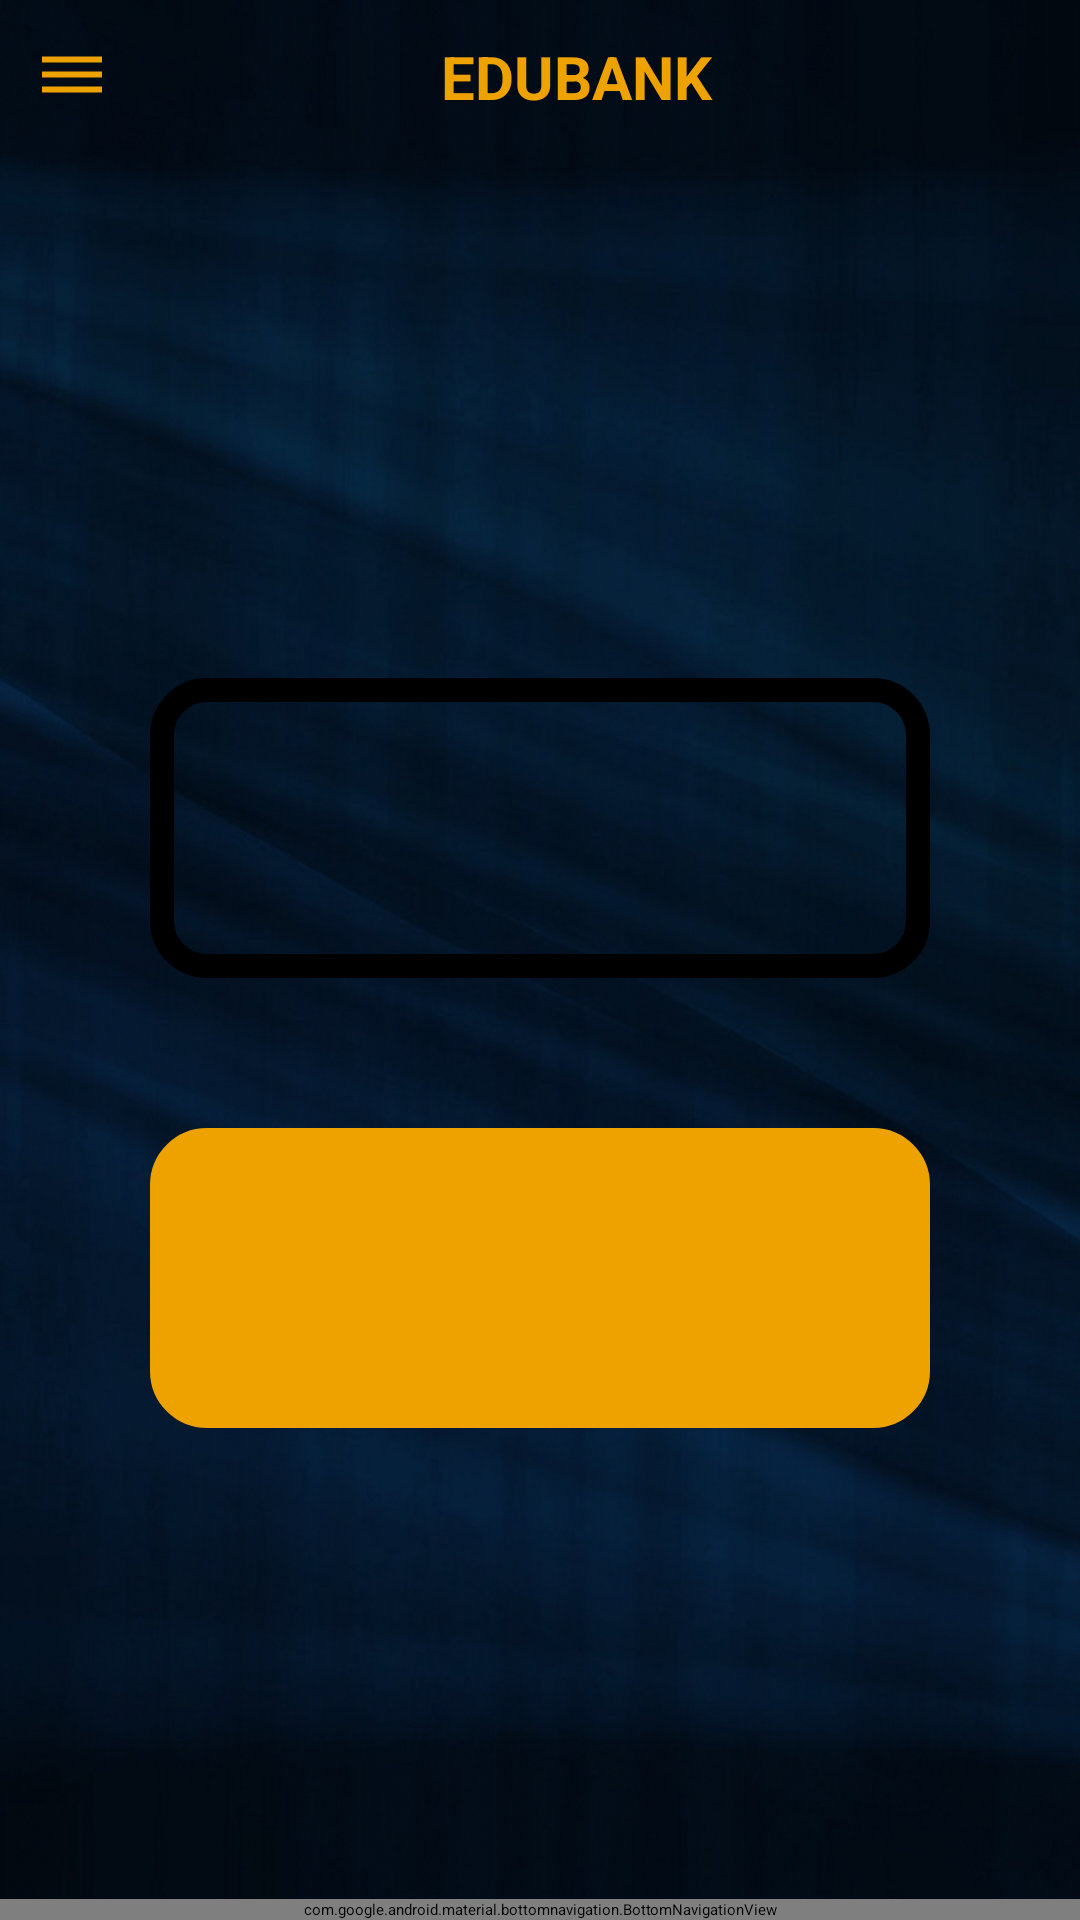

Where icons sit on this 1080 x 1920 app screen, as (x1, y1, x2, y2):
dehaze: (42, 56, 102, 93)
